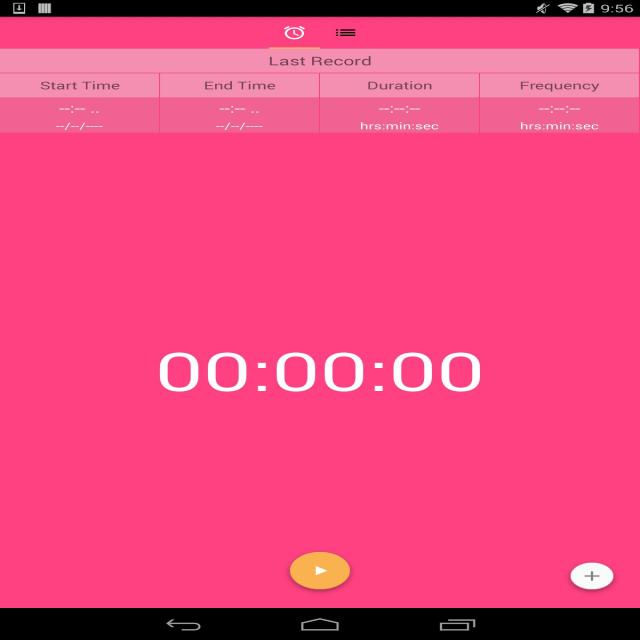button: (288, 551, 350, 592), (321, 21, 369, 48), (572, 563, 614, 591), (274, 20, 314, 48)
heading: (265, 54, 377, 71), (516, 78, 606, 97), (199, 78, 282, 95), (40, 80, 125, 94), (360, 81, 439, 93)
text: (156, 346, 484, 398), (357, 120, 445, 134), (516, 120, 604, 132)
